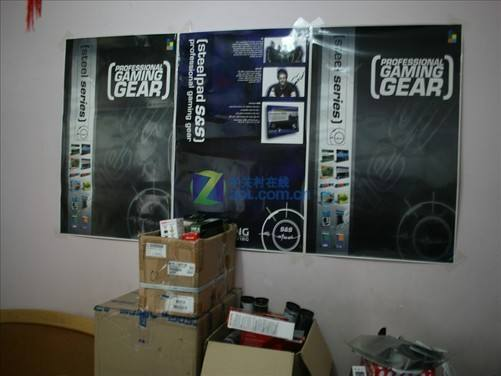bill: (305, 23, 464, 264), (175, 27, 310, 253), (60, 31, 177, 246)
